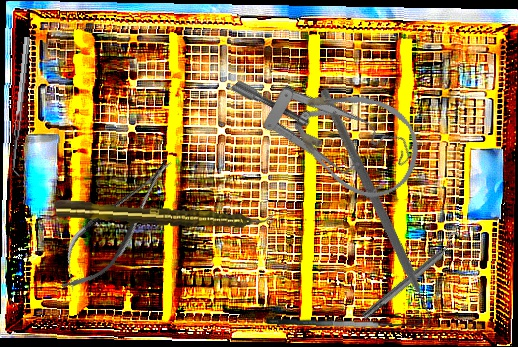Cannula: (271, 67, 435, 212)
Chopper: (237, 86, 509, 342)
Fixation Ring: (356, 229, 468, 325)
Handpiece: (53, 197, 274, 234)
Micro Scissor: (43, 146, 190, 303)
Spatula Surgical: (265, 304, 424, 334), (9, 36, 36, 177)
Speculum: (229, 23, 420, 223)
